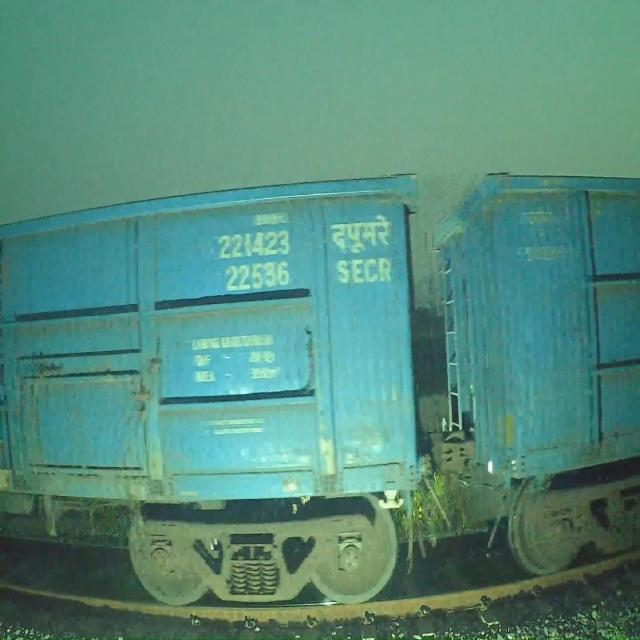WAgon-uic: (0, 169, 426, 604), (431, 174, 640, 574)
uic: (212, 228, 295, 296)
